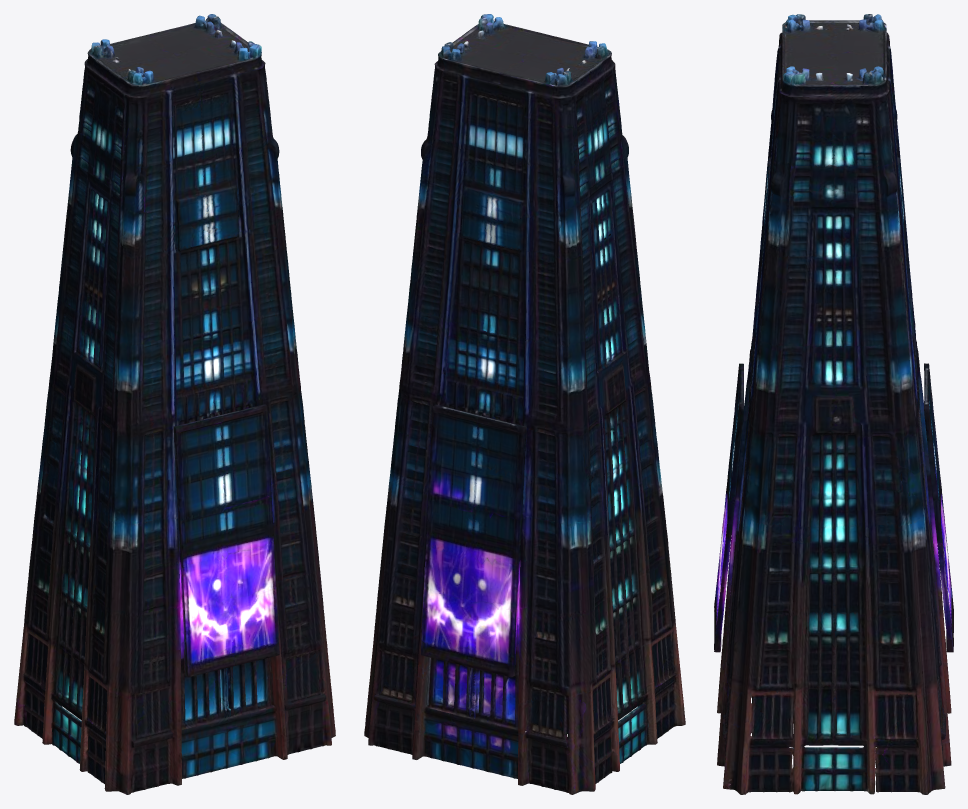
Rendered from b3_led_tower_runtime.glb.
3 renders of one model, left to right at view 1: azimuth 30°, elevation 25°; view 2: azimuth 150°, elevation 25°; view 3: azimuth 270°, elevation 25°, orthographic.
Bounding box in the file's own units: 0.6652 × 1.9 × 0.5931.
1 material, 1 textured.
